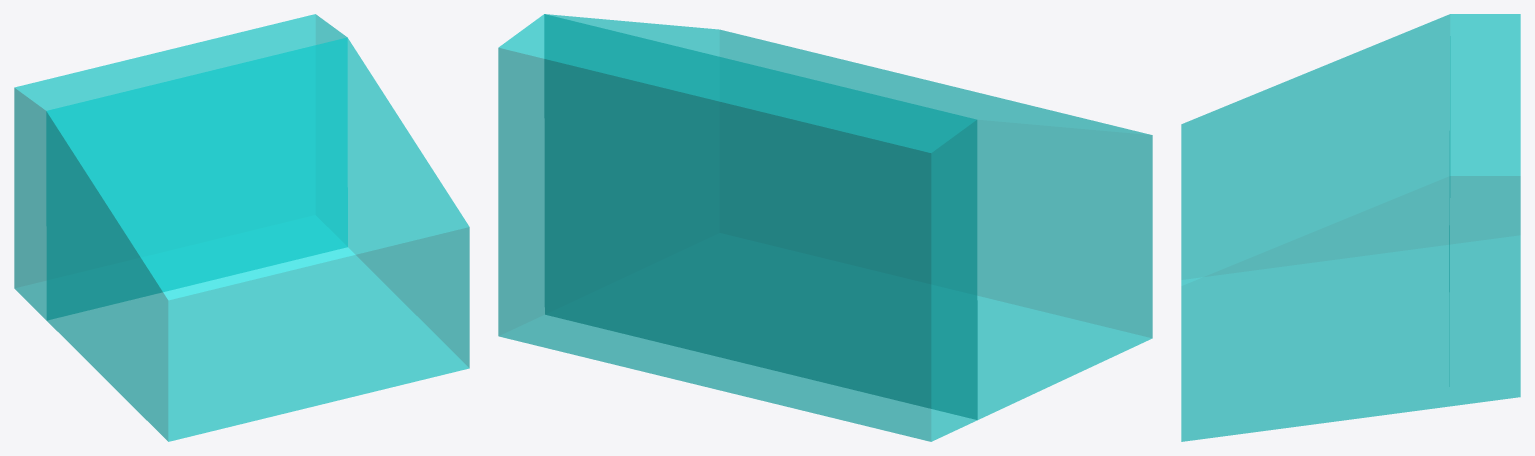
Rendered from SM_Env_Stone_Stairs_01_Collision.fbx.
The picture shows the model from 3 angles, left to right: view 1: azimuth 30°, elevation 25°; view 2: azimuth 150°, elevation 25°; view 3: azimuth 270°, elevation 25°; orthographic projection. The views are drawn at different scales.
Parts seen in each view (by area): view 1: SM_Env_Stone_Stairs_01_Collision; view 2: SM_Env_Stone_Stairs_01_Collision; view 3: SM_Env_Stone_Stairs_01_Collision.
Boxes of the visible parts, x1=… form: SM_Env_Stone_Stairs_01_Collision: x1=14, y1=14, x2=469, y2=441; SM_Env_Stone_Stairs_01_Collision: x1=498, y1=14, x2=1152, y2=441; SM_Env_Stone_Stairs_01_Collision: x1=1181, y1=14, x2=1520, y2=441.
Size of the model in its own units: 199 by 153 by 177.
